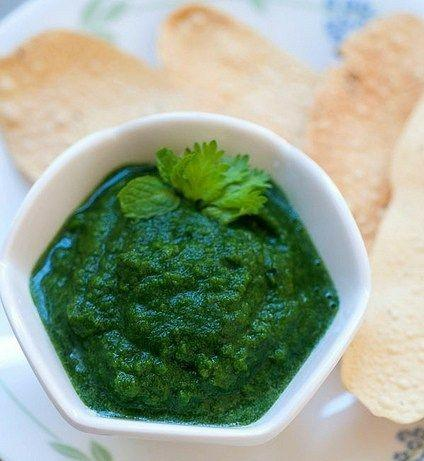GreenChutney: (31, 161, 340, 426)
